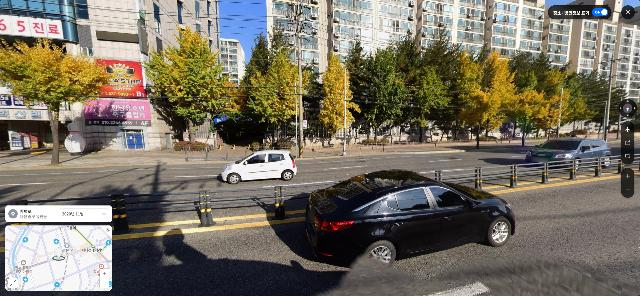ginkgo: (1, 35, 115, 165), (453, 49, 524, 150), (518, 63, 575, 146), (320, 51, 360, 144)
other: (143, 23, 241, 141), (248, 48, 312, 150), (408, 28, 454, 145), (394, 30, 434, 143), (362, 43, 406, 143), (240, 31, 271, 150), (509, 45, 547, 140), (344, 39, 369, 143), (564, 68, 600, 137), (591, 81, 632, 136), (556, 81, 585, 137)
